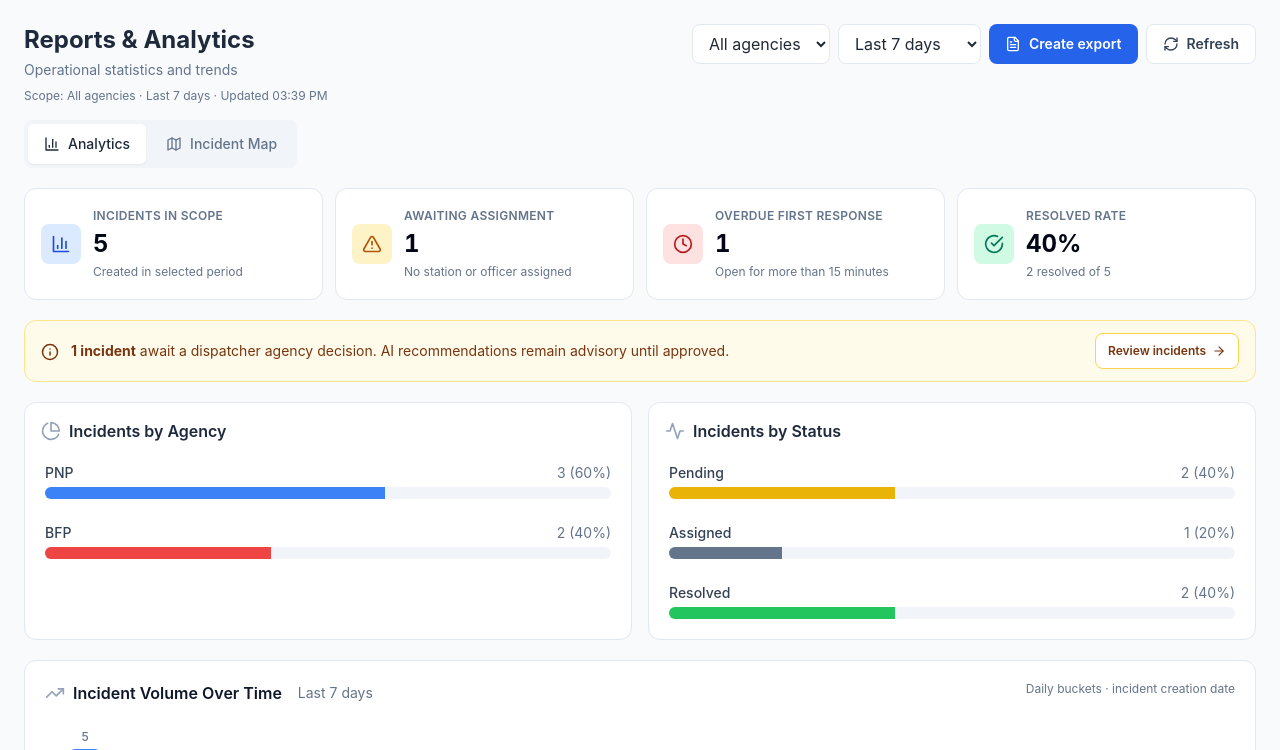
it: Reports analytics workspace › opens the export builder from the current analytics scope
Step 1. Click the button "Create export" → (1063, 44), box [989, 24, 1138, 64]
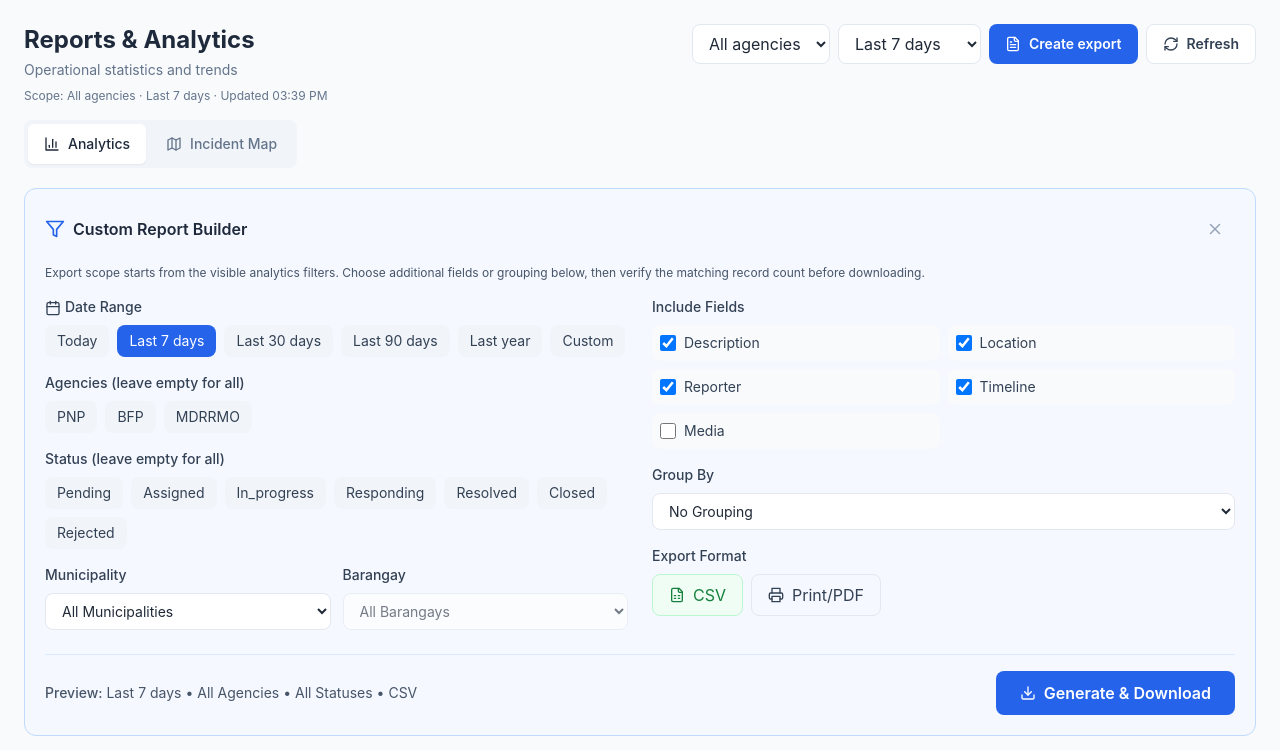
expect the heading "Custom Report Builder" is shown: met, box [45, 217, 247, 241]
expect the text "Export scope starts from the visible analytics filters" is shown: met, box [45, 265, 925, 280]
